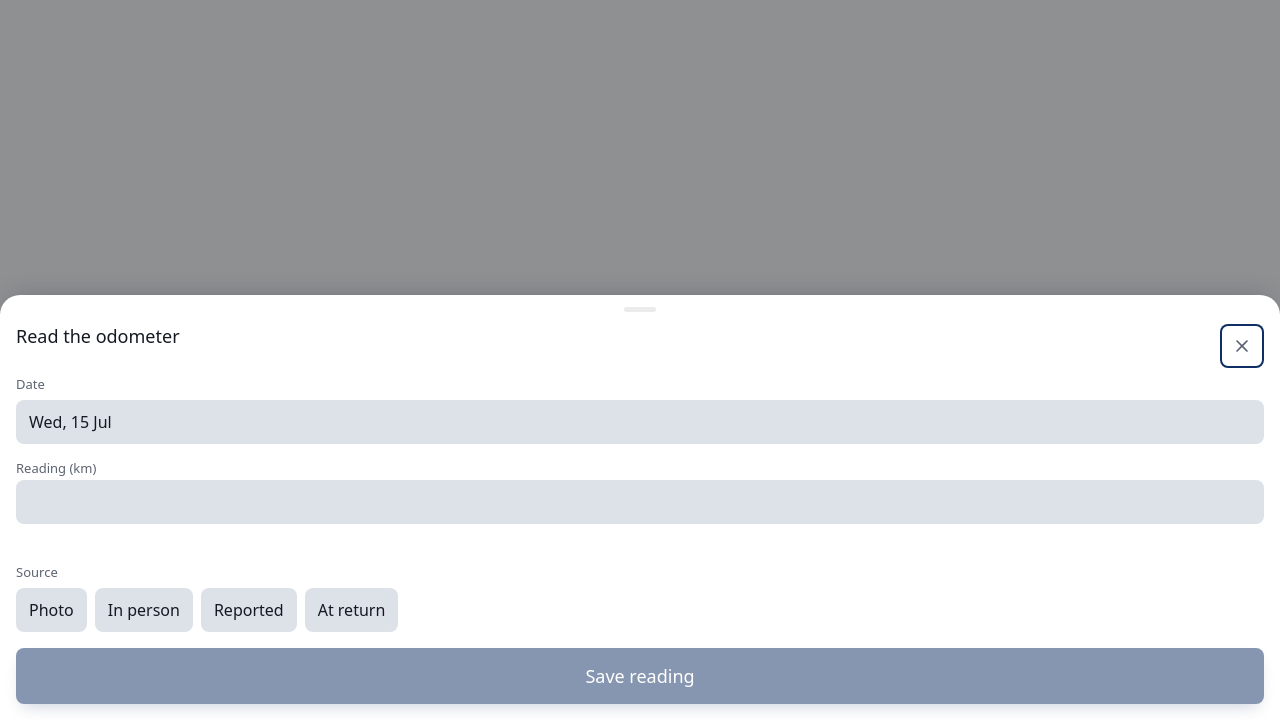
an estimated, auto-waived assessment says so
Step 1. Type "45010" into the number field labelled "Reading (km)" → (640, 502), box top-left (16, 480), bottom-right (1264, 524)
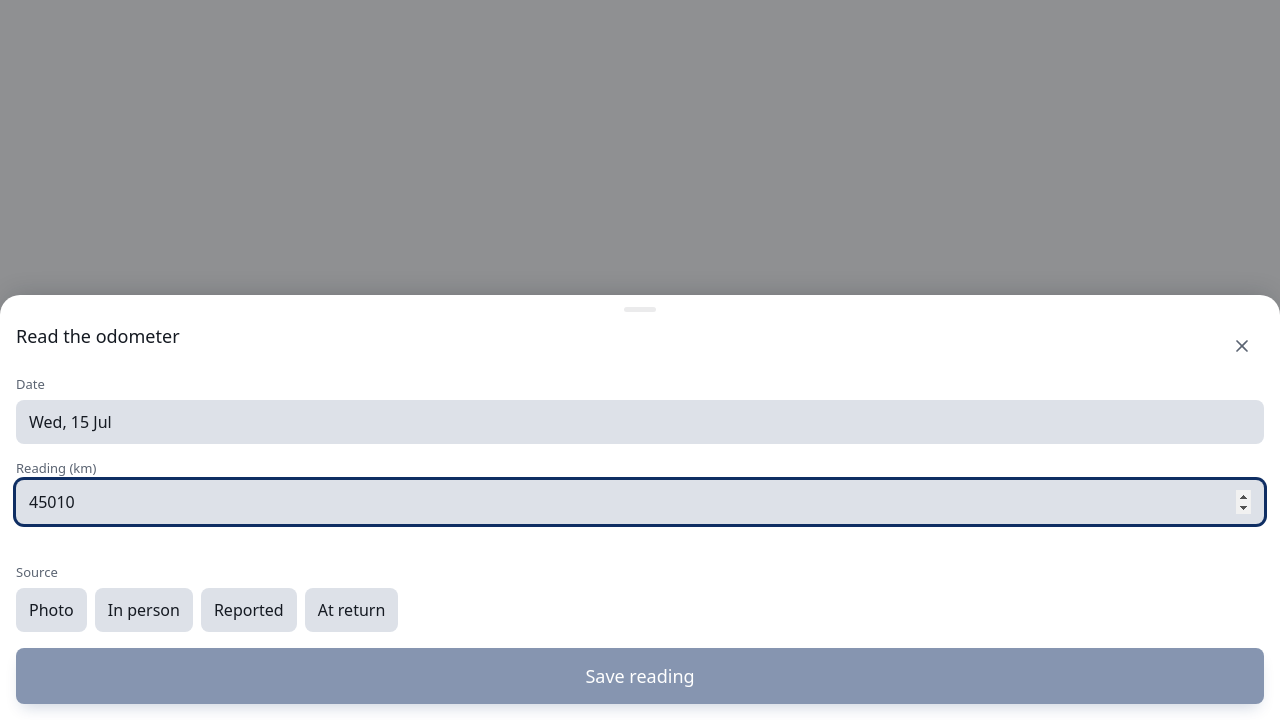
Step 2. Click the button "Photo" → (51, 610), box top-left (16, 588), bottom-right (87, 632)
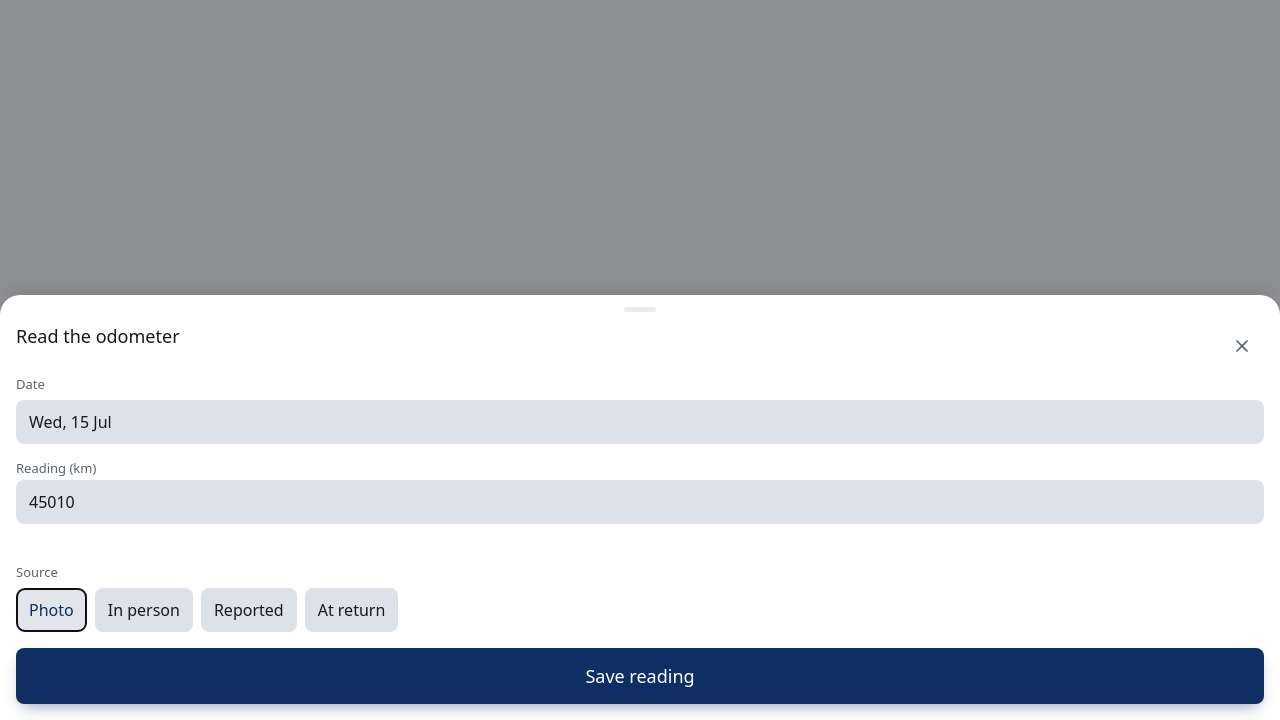
Step 3. Click the button "Save reading" → (640, 676), box top-left (16, 648), bottom-right (1264, 704)
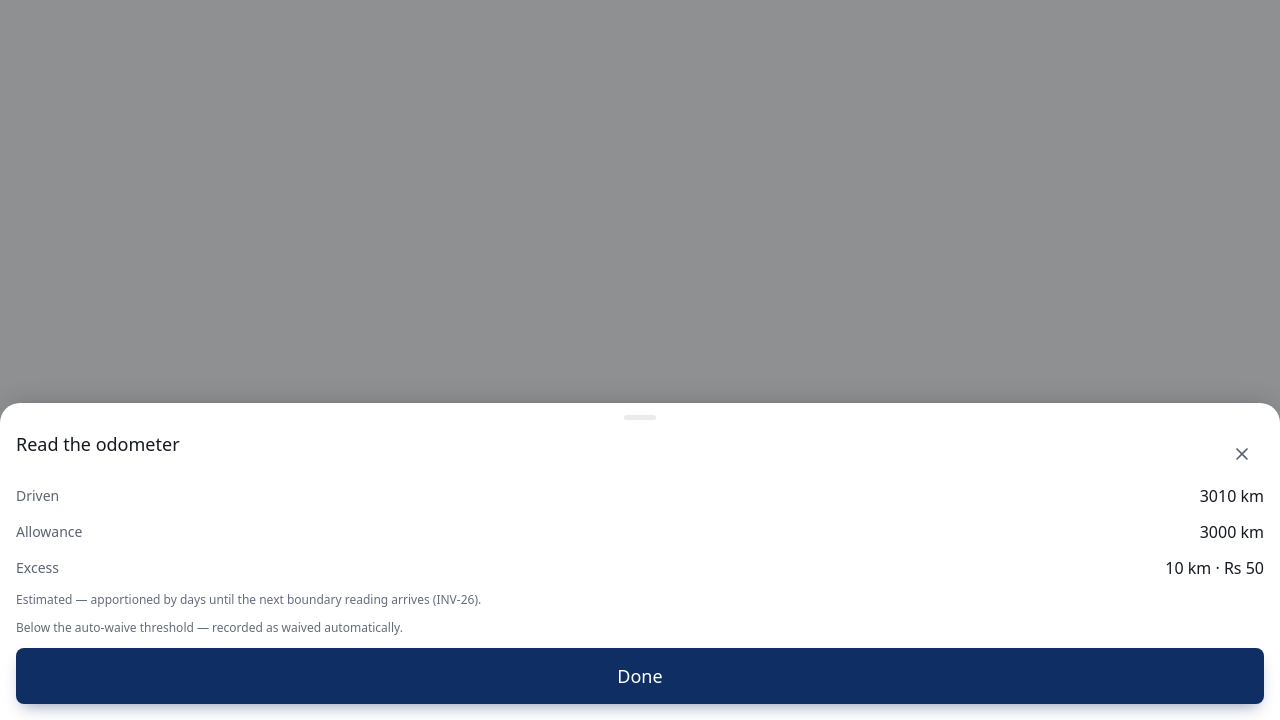
Result: the text "apportioned by days" is shown at top-left (16, 591), bottom-right (481, 608)
Result: the text "auto-waive threshold" is shown at top-left (16, 619), bottom-right (403, 636)
